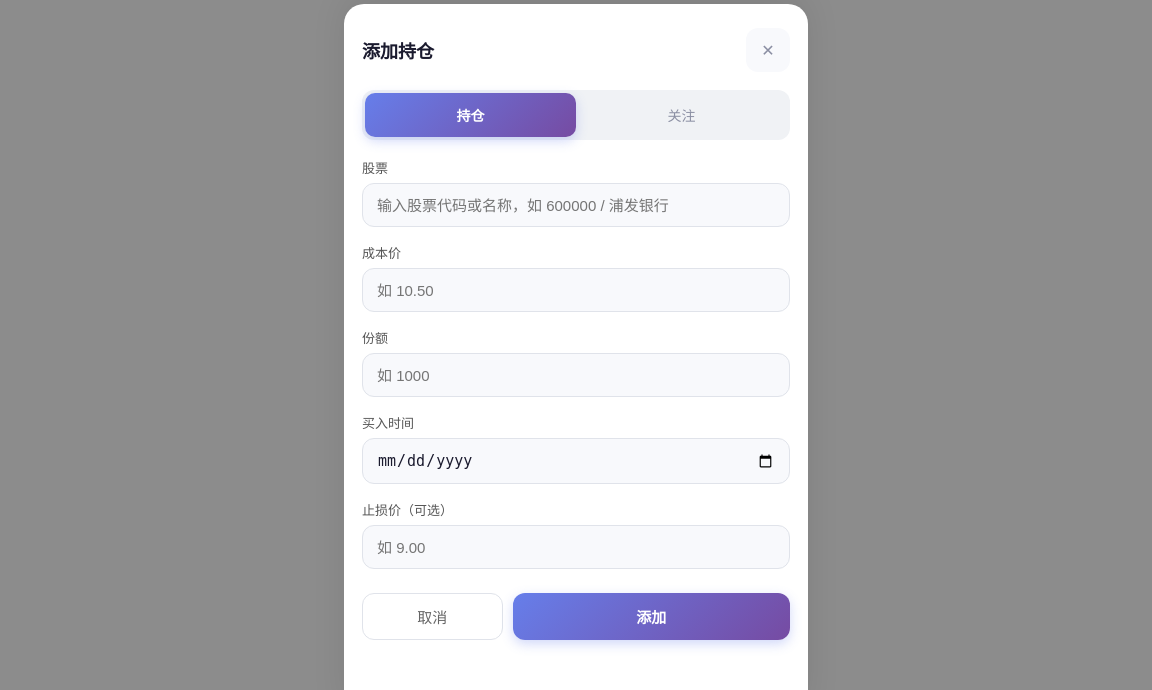
PositionForm - Add Mode › validates shares must be positive integer
This screenshot has width=1152, height=690.
Type "浦发" into the field labelled "股票" at (576, 205), box [362,183,790,227]
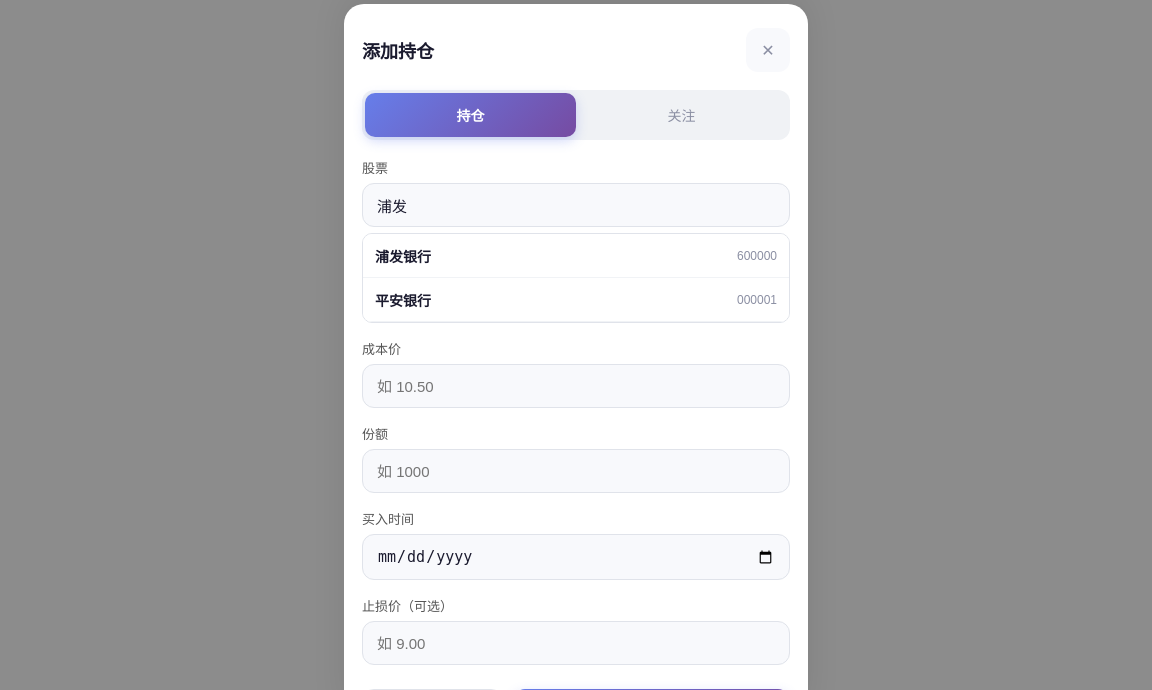
expect the text "浦发银行" is shown: met
Click the text "浦发银行" at (403, 256), box [375,246,431,266]
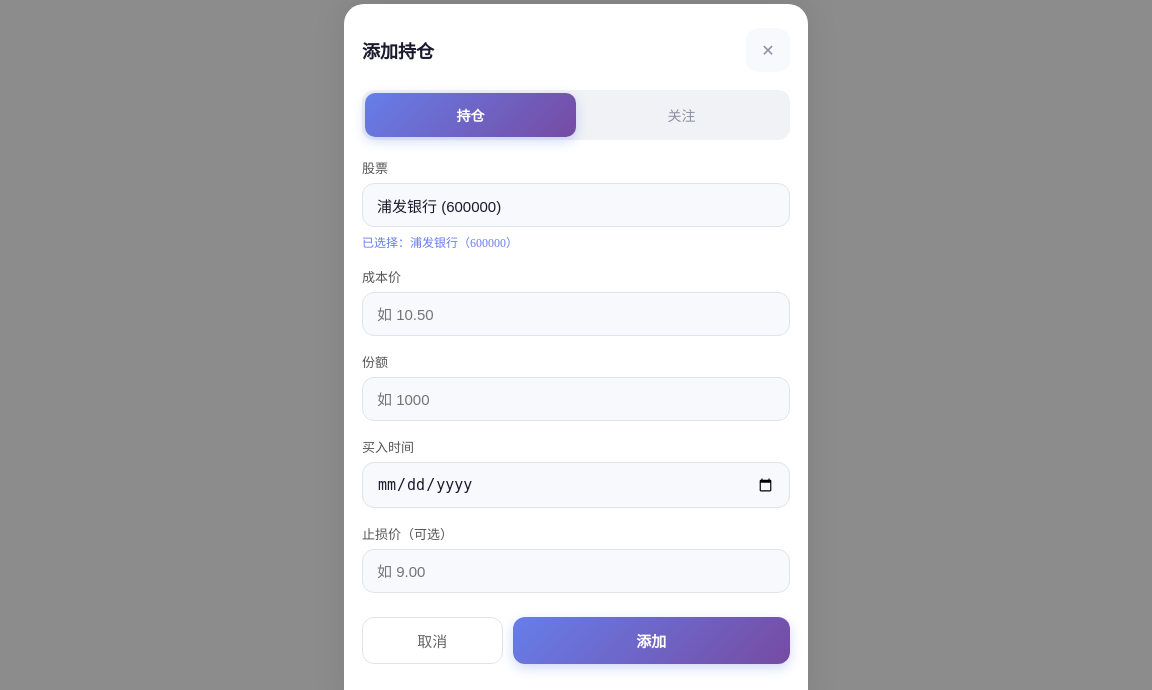
Type "10" into the field labelled "成本价" at (576, 314), box [362,292,790,336]
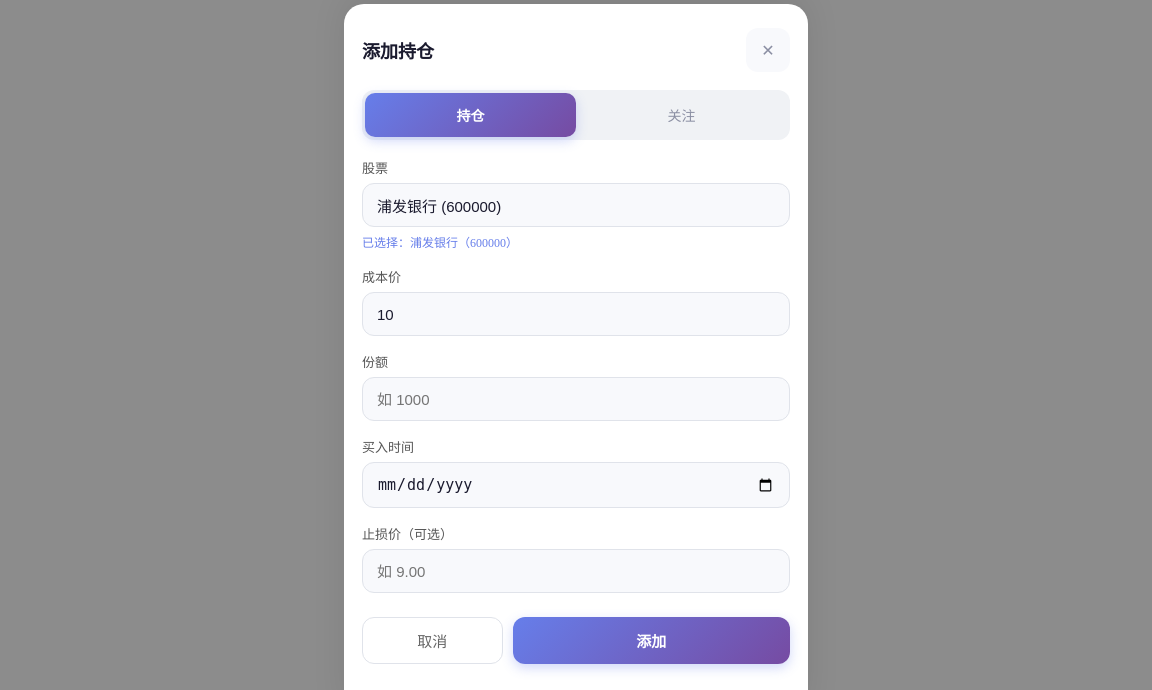
Type "10.5" into the field labelled "份额" at (576, 399), box [362,377,790,421]
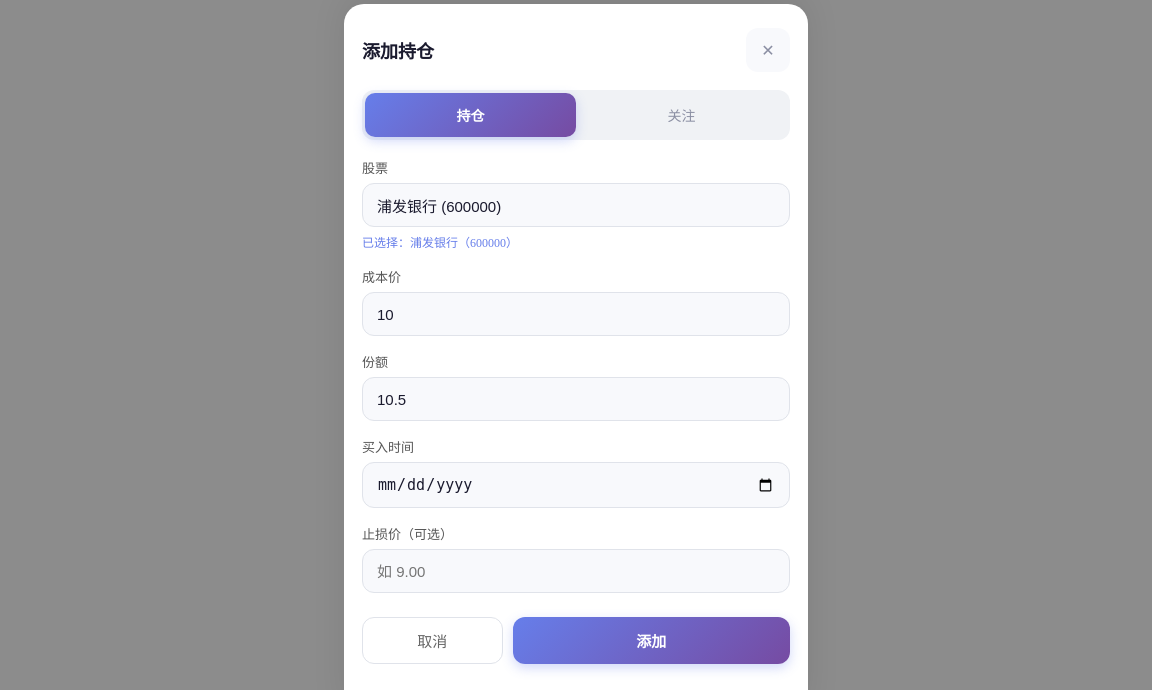
Type "2024-01-01" into the date field labelled "买入时间" at (576, 485), box [362,462,790,508]
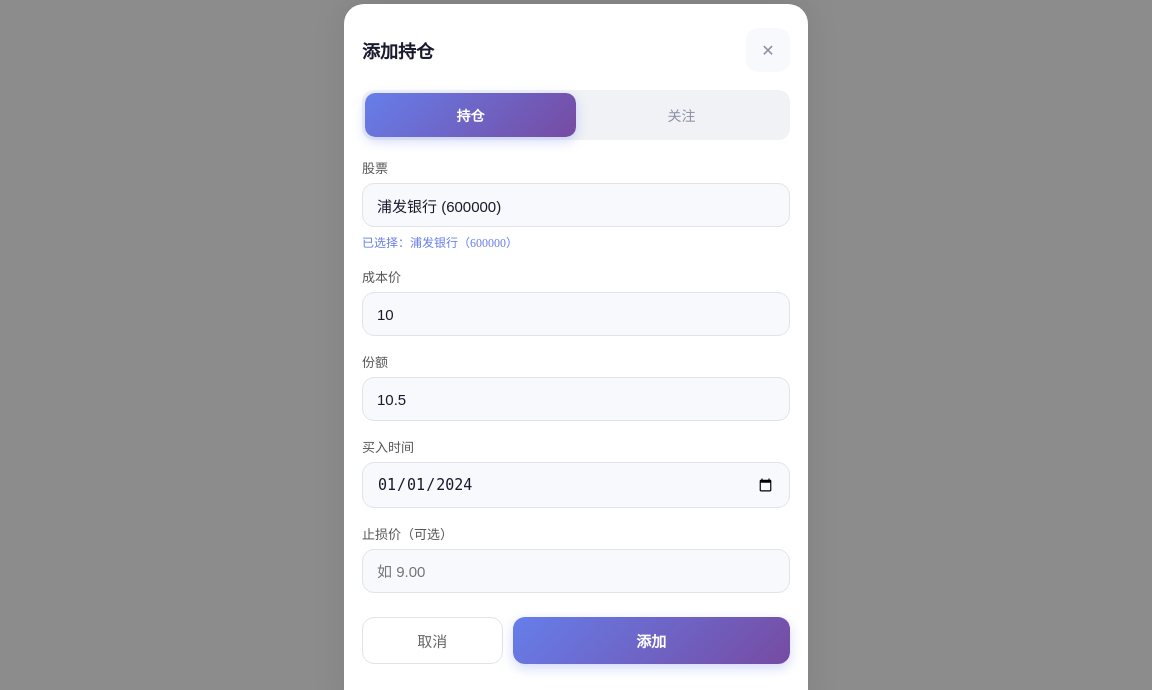
Click the button "添加" at (651, 640), box [513,617,790,664]
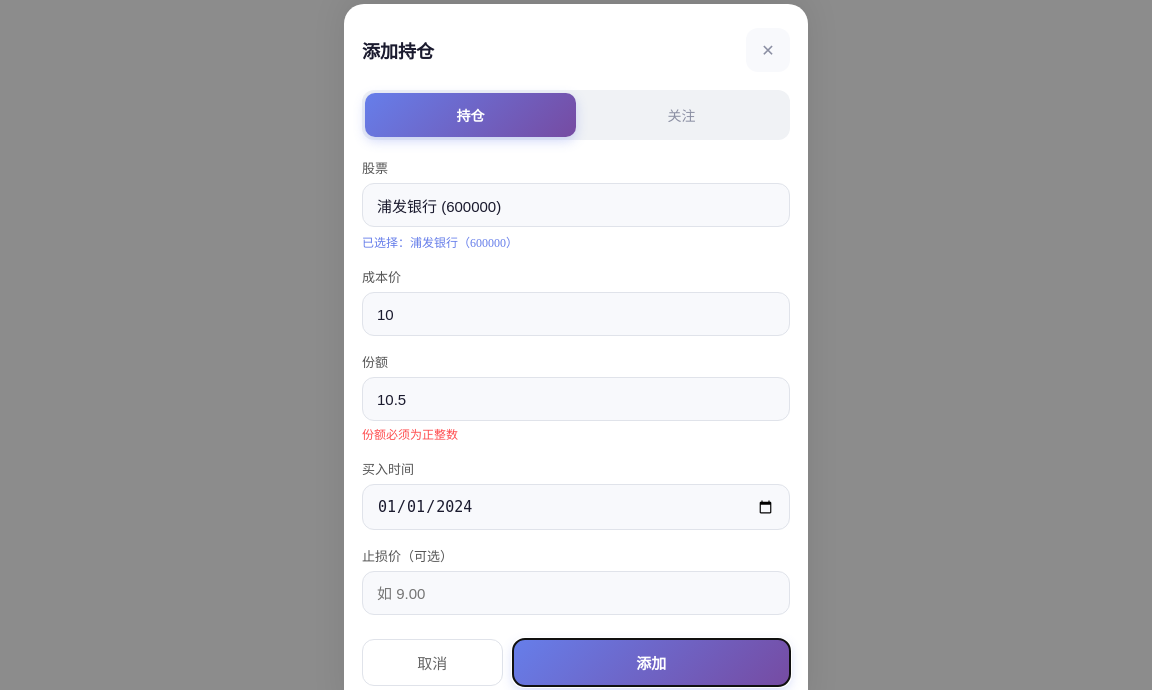
expect the text "份额必须为正整数" is shown: met, box [362,428,458,442]
